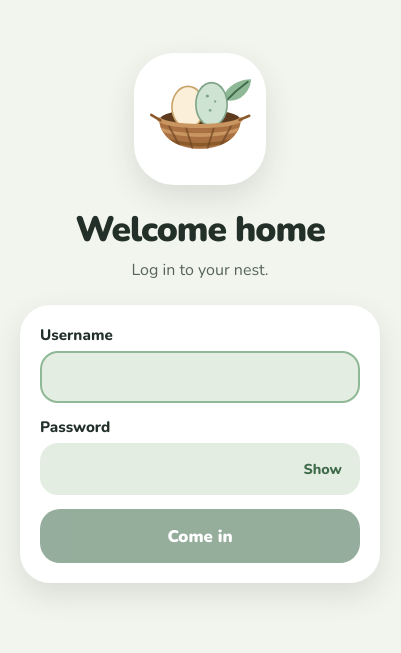
Test: logging in › a wrong password shakes the nest and says so kindly
The image size is (401, 653).
Expected: the heading "Welcome home" is shown, [75,205,325,253]
Type "radek" into the field labelled "Username".
click(200, 377); type("radek")  # box [40,351,360,403]
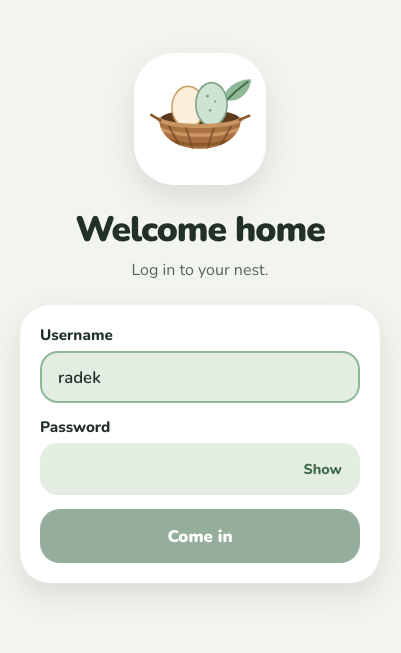
Type "nope" into the password field labelled "Password".
click(200, 469); type("nope")  # box [40,443,360,495]
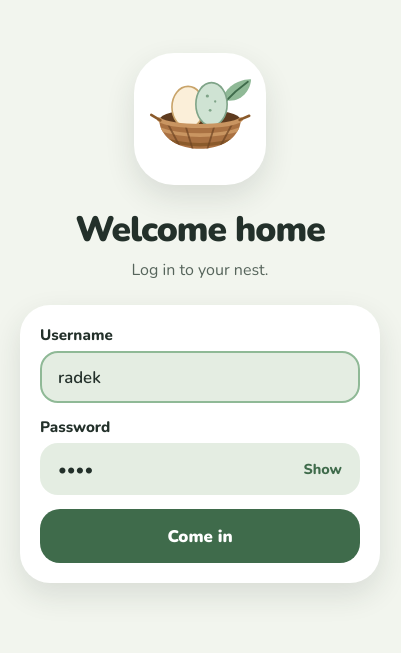
Click the button "Come in".
click(200, 536)  # box [40,509,360,563]
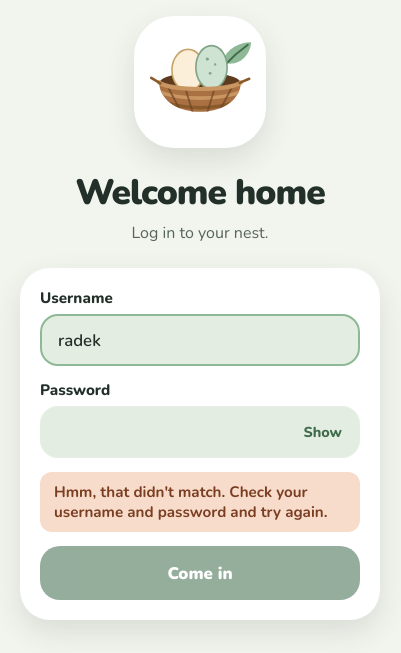
Result: the message shows "didn't match" at [54,482,328,522]
Result: the password field labelled "Password" is empty at [40,406,360,458]
